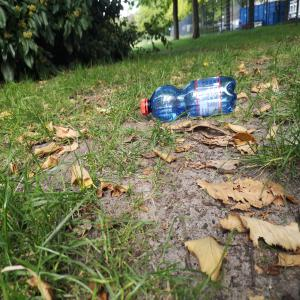Plastic-bottle: (141, 76, 239, 124)
